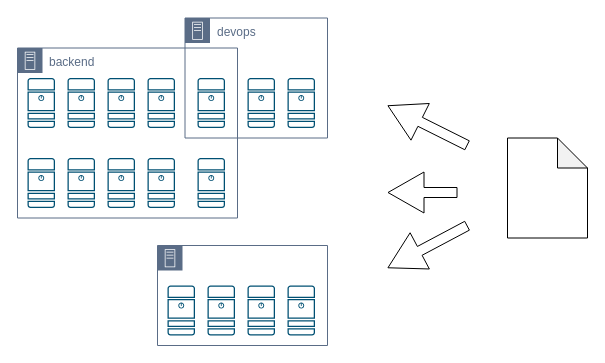
The diagram is 605 pixels wide and 363 high, and some of its shapes have lost their labels. Each missing label, with the box of its shape:
Central Configuration: (506, 137, 588, 238)
poc: (156, 244, 328, 346)
